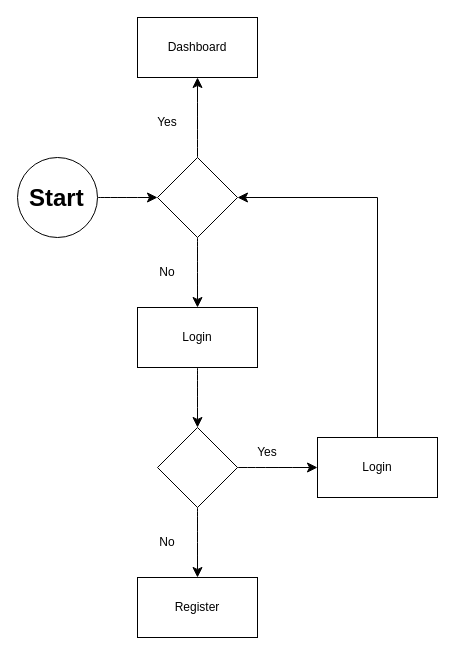
This 455x655 diagram has some shape labels left out. Here are the shapes that lost their labels. From the top down, the centre of each, then its label:
At (197,197): "Logged in user?".
At (197,467): "User has account?".
